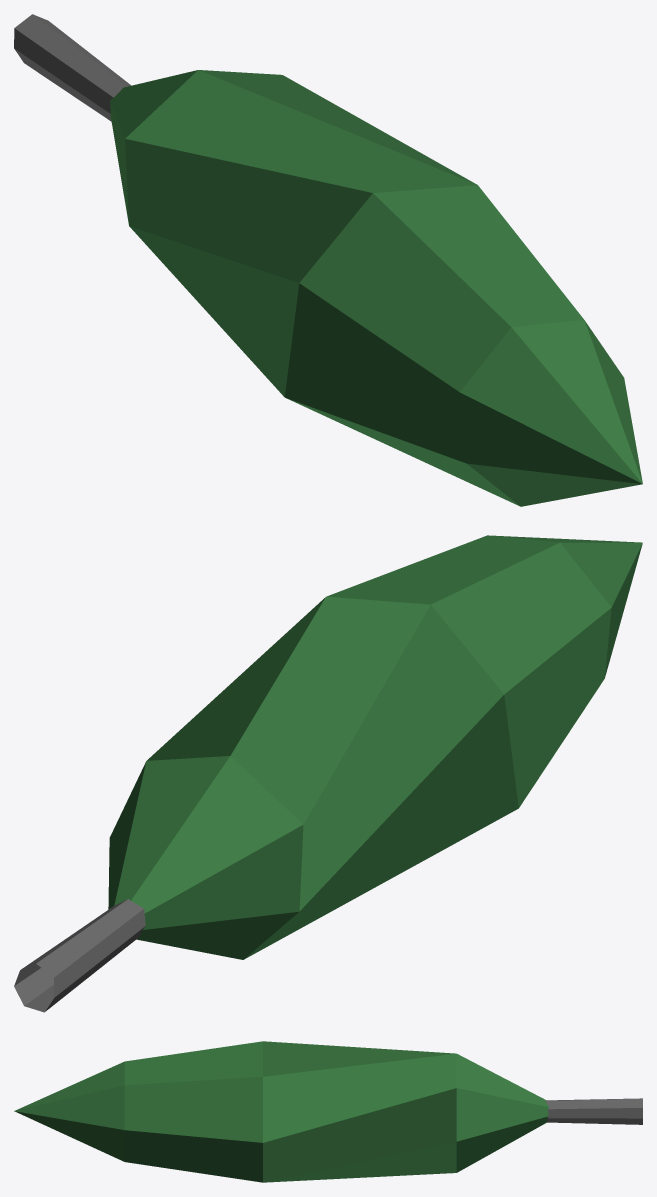
Rendered from growth_1.glb.
3 views of the same model, one above another, from view 1: azimuth 30°, elevation 25°; view 2: azimuth 150°, elevation 25°; view 3: azimuth 270°, elevation 25° (orthographic). The views are drawn at different scales.
Parts seen in each view (by area): view 1: tree_10_growth_1; view 2: tree_10_growth_1; view 3: tree_10_growth_1.
Boxes of the visible parts, box(x1,y1,x2,y2) form: tree_10_growth_1: box(14, 14, 642, 506); tree_10_growth_1: box(14, 535, 642, 1012); tree_10_growth_1: box(14, 1041, 642, 1182).
Size of the model in its own units: 6.7 by 6.19 by 28.52.
